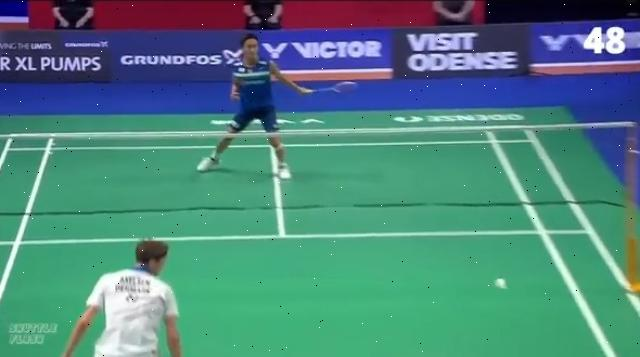Shuttlecock: (493, 276, 511, 294)
